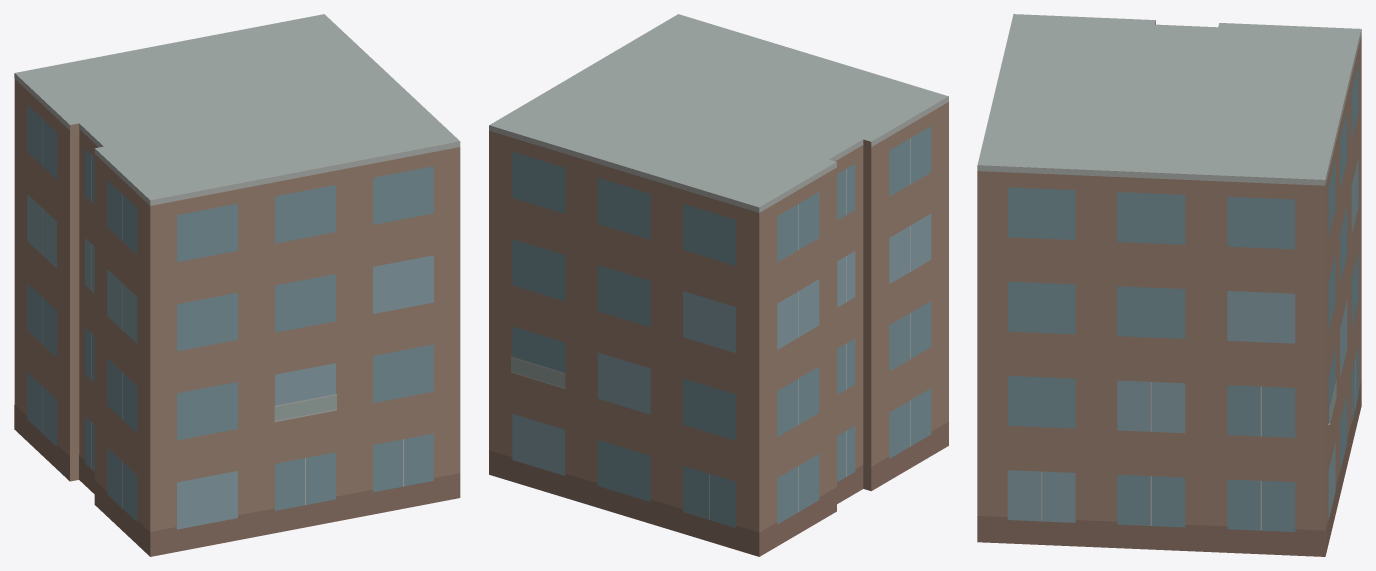
The model's file is survey-upis-32672199.glb.
3 renders of one model, left to right at view 1: azimuth 30°, elevation 25°; view 2: azimuth 150°, elevation 25°; view 3: azimuth 270°, elevation 25°, orthographic. The views are drawn at different scales.
Visible parts, largest first — view 1: survey-upis-32672199.tmp; view 2: survey-upis-32672199.tmp; view 3: survey-upis-32672199.tmp.
Boxes of the visible parts, box(x1,y1,x2,y2) form: survey-upis-32672199.tmp: box(14, 14, 460, 556); survey-upis-32672199.tmp: box(489, 14, 948, 556); survey-upis-32672199.tmp: box(977, 14, 1361, 556).
Bounding box in the file's own units: 14.88 × 15.75 × 14.56.
